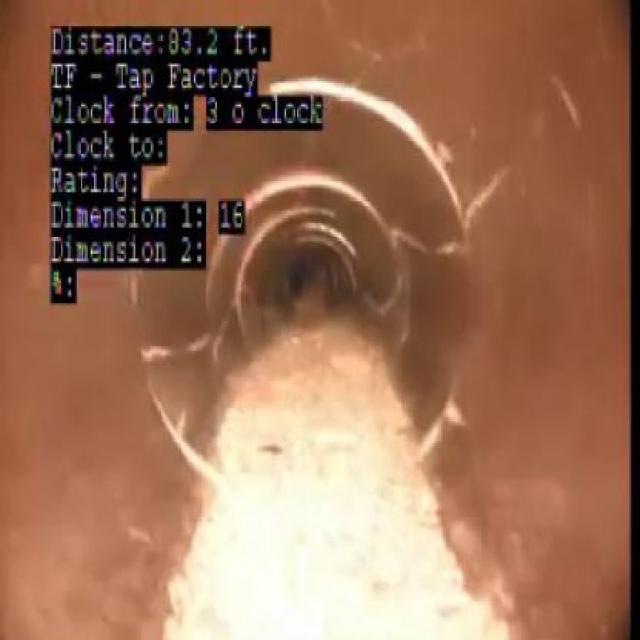Crack: (142, 328, 210, 375), (461, 162, 514, 218)
Joint offset: (326, 71, 445, 154)
